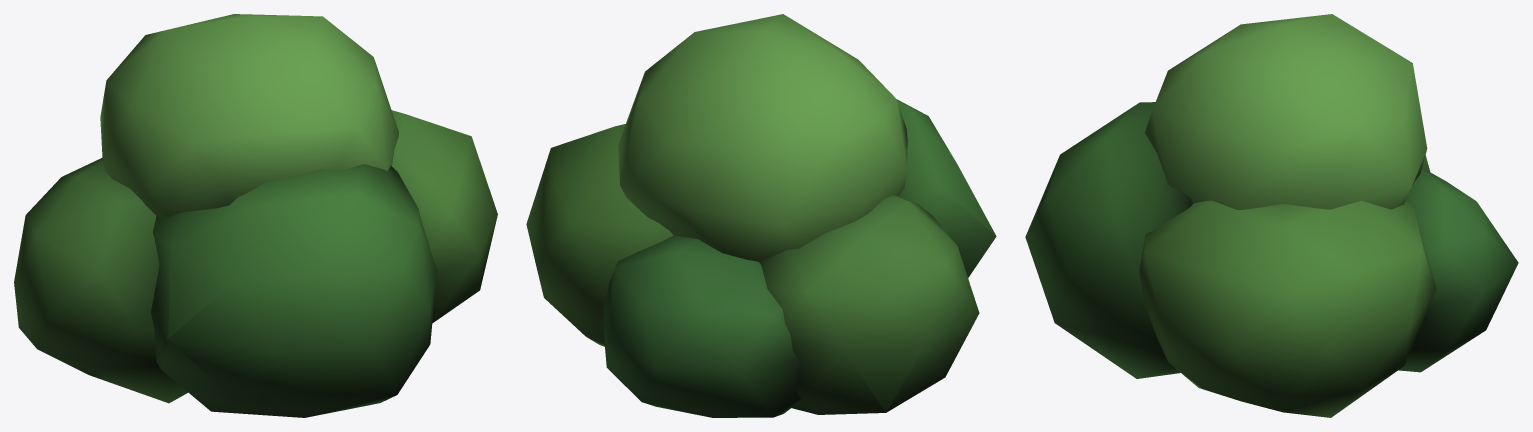
File: HD_Bush_A.glb
3 renders of one model, left to right at view 1: azimuth 30°, elevation 25°; view 2: azimuth 150°, elevation 25°; view 3: azimuth 270°, elevation 25°, orthographic. The views are drawn at different scales.
Parts seen in each view (by area): view 1: HD_Bush_A_1_SmoothPlastic; view 2: HD_Bush_A_1_SmoothPlastic; view 3: HD_Bush_A_1_SmoothPlastic.
Boxes of the visible parts, x1,y1,x2,y2 form: HD_Bush_A_1_SmoothPlastic: [14, 14, 497, 417]; HD_Bush_A_1_SmoothPlastic: [526, 14, 996, 417]; HD_Bush_A_1_SmoothPlastic: [1025, 14, 1518, 417].
Bounding box in the file's own units: 3.58 × 2.82 × 3.69.
